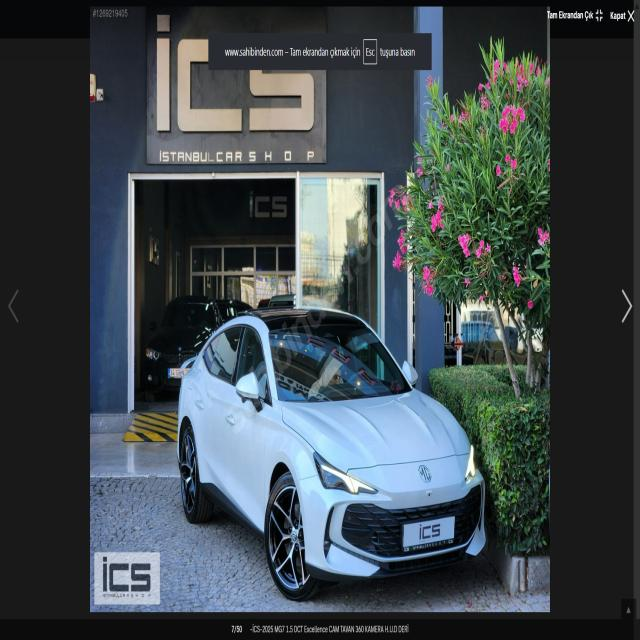mg: (415, 460, 437, 488)
